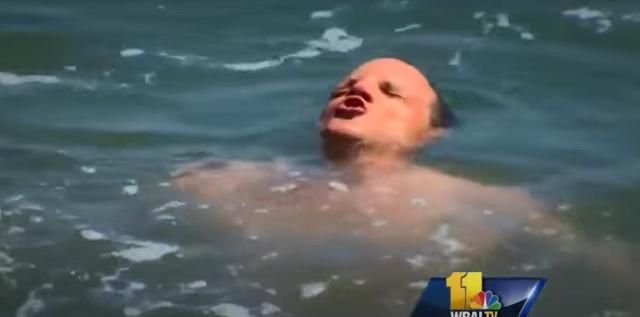drowning: (316, 33, 431, 176)
